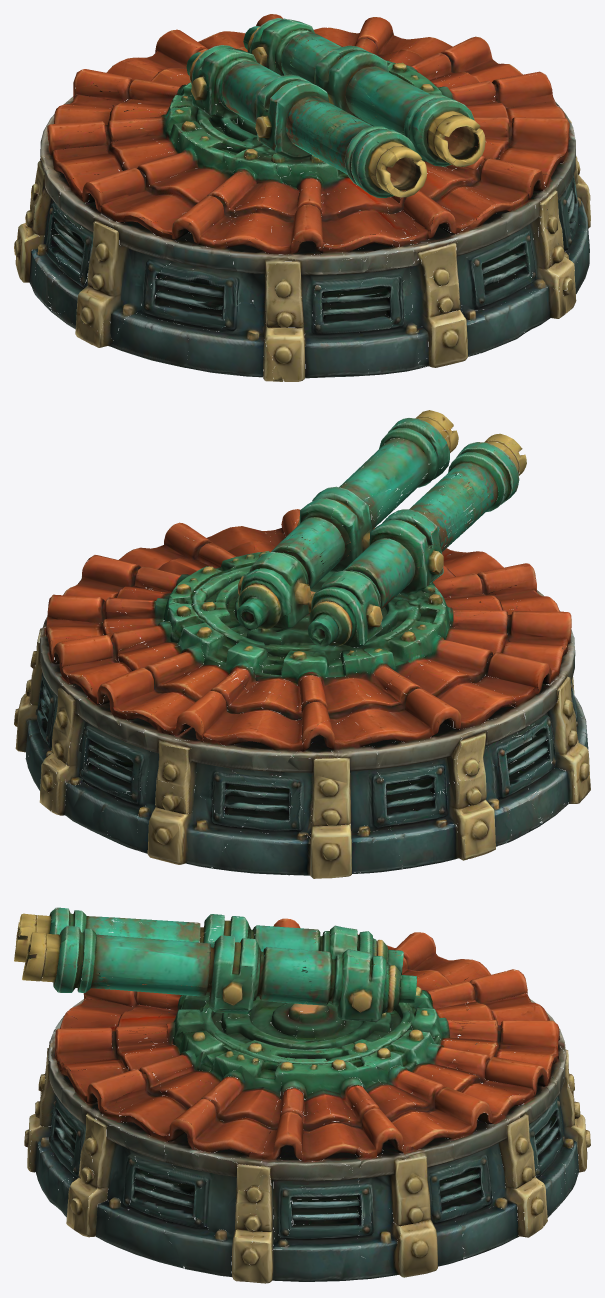
The model's file is warrior-1-tier-1.glb.
3 views of the same model, one above another, from view 1: azimuth 30°, elevation 25°; view 2: azimuth 150°, elevation 25°; view 3: azimuth 270°, elevation 25° (orthographic). The views are drawn at different scales.
Visible parts, largest first — view 1: fixed-platform, moving-assembly; view 2: fixed-platform, moving-assembly; view 3: fixed-platform, moving-assembly.
Part boxes in pixels (bbox=[...]): fixed-platform: bbox=[14, 14, 590, 381]; moving-assembly: bbox=[170, 18, 485, 197]; fixed-platform: bbox=[14, 509, 590, 878]; moving-assembly: bbox=[169, 410, 526, 674]; fixed-platform: bbox=[24, 918, 590, 1283]; moving-assembly: bbox=[14, 907, 439, 1081].
Size of the model in its own units: 0.803 by 0.3791 by 0.8133.
1 material, 1 textured.
